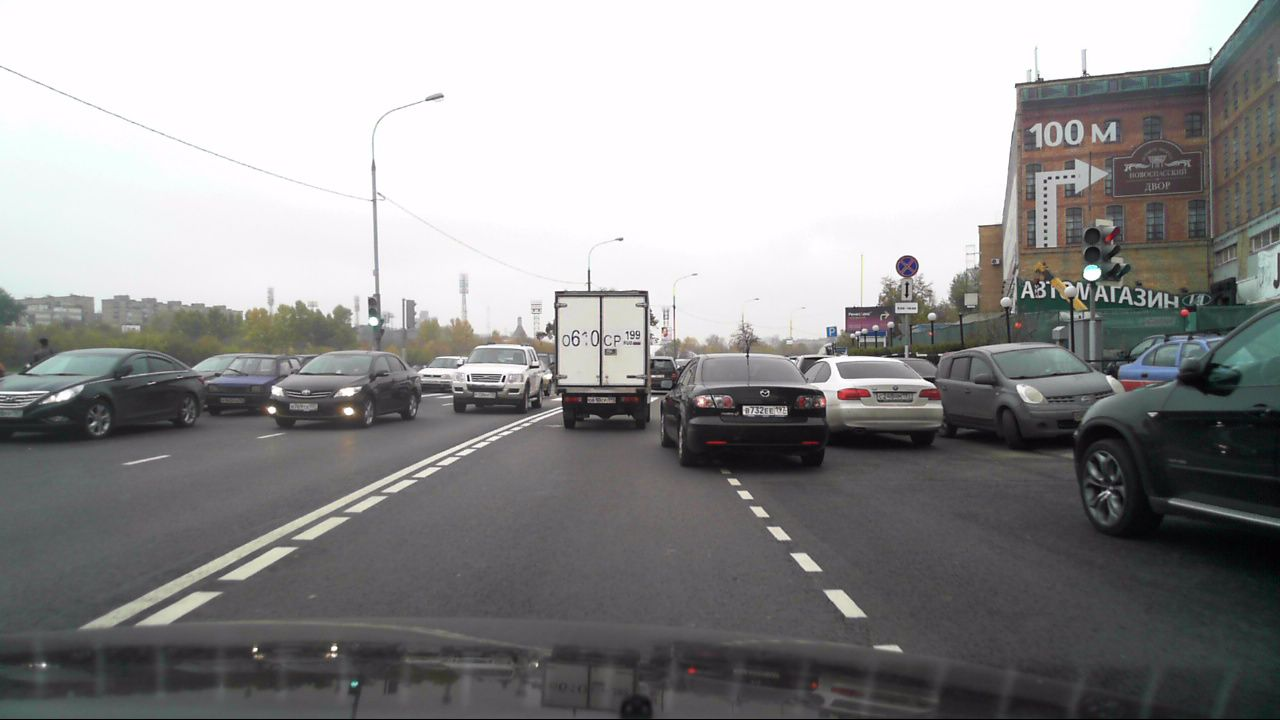No Parking: (894, 253, 919, 277)
